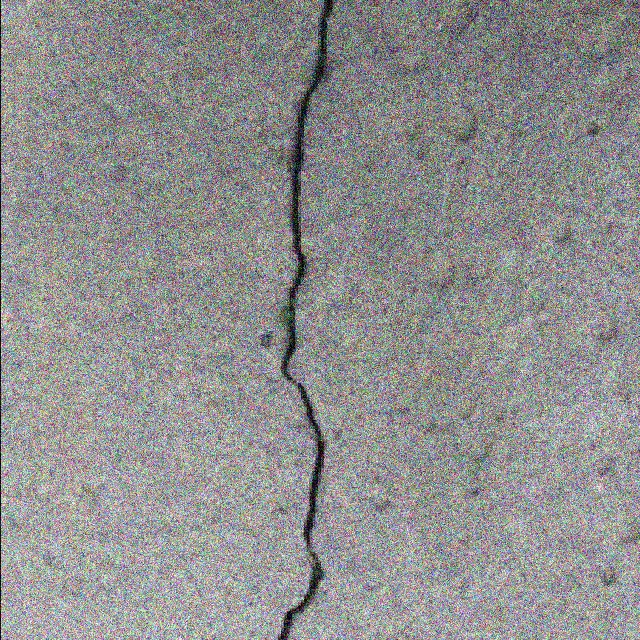SurfaceCrack: (254, 0, 358, 638)
